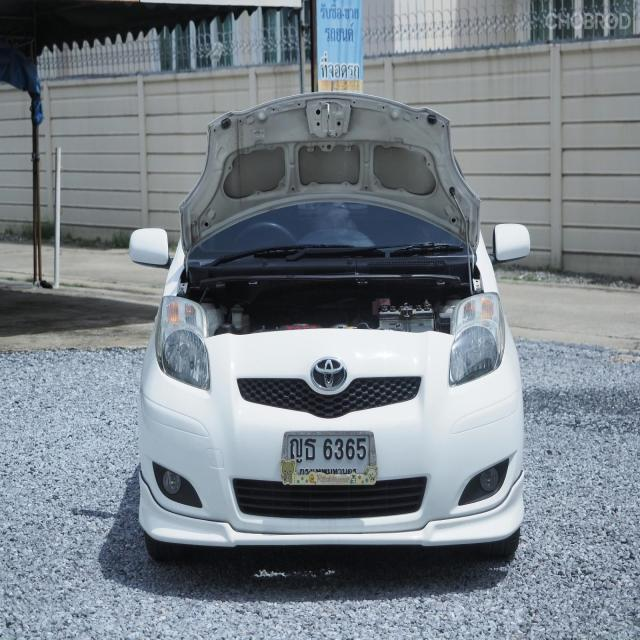license_plate: (280, 427, 380, 490)
